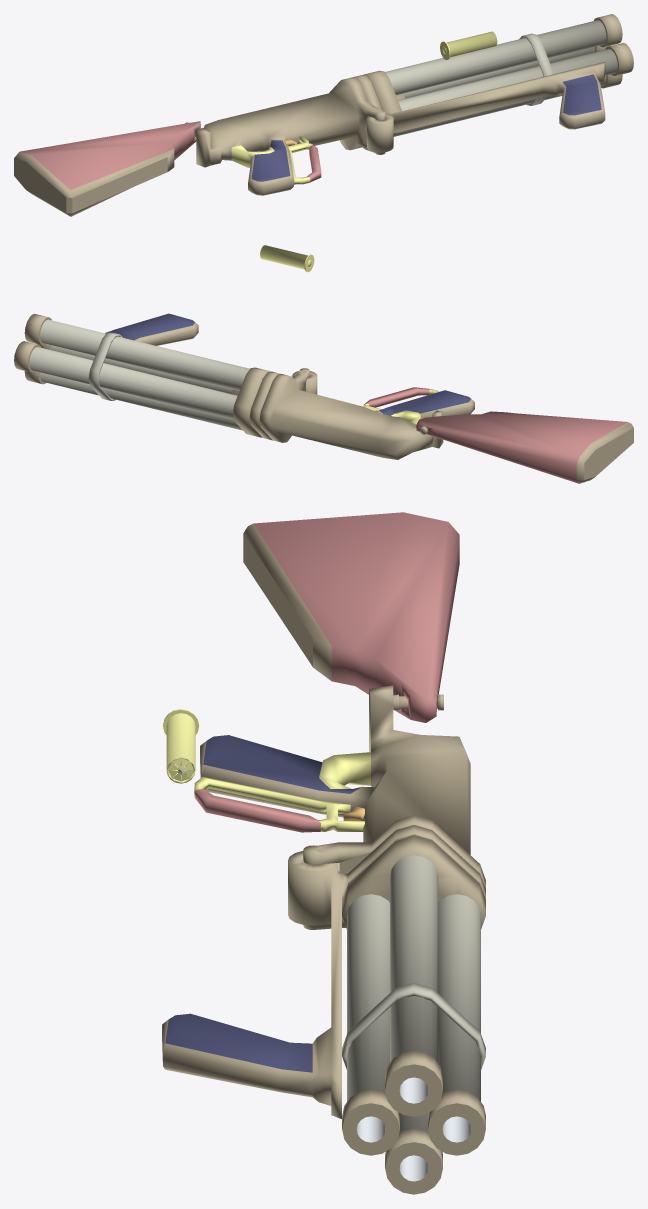
Rendered from steampunk_shotgun.fbx.
3 views of the same model, one above another, from view 1: azimuth 30°, elevation 25°; view 2: azimuth 150°, elevation 25°; view 3: azimuth 270°, elevation 25° (orthographic). The views are drawn at different scales.
Visible parts, largest first — view 1: Circle.027, Circle.033, Circle.031, Circle.024, cartridge, lever; view 2: Circle.027, Circle.033, Circle.031, Circle.024, cartridge, lever; view 3: Circle.027, Circle.031, Circle.033, Circle.024, lever, Circle.022, cartridge.
Part boxes in pixels (<box>): Circle.027: <box>363,14,633,136</box>; Circle.033: <box>185,77,385,195</box>; Circle.031: <box>14,121,200,216</box>; Circle.024: <box>352,62,605,152</box>; cartridge: <box>440,31,497,59</box>; lever: <box>286,136,321,184</box>; Circle.027: <box>14,314,270,437</box>; Circle.033: <box>259,368,474,459</box>; Circle.031: <box>416,411,633,483</box>; Circle.024: <box>105,313,317,440</box>; cartridge: <box>260,245,314,272</box>; lever: <box>363,387,438,410</box>; Circle.027: <box>342,836,485,1194</box>; Circle.031: <box>243,512,459,722</box>; Circle.033: <box>200,685,485,929</box>; Circle.024: <box>162,825,485,1118</box>; lever: <box>194,776,364,832</box>; Circle.022: <box>356,1077,471,1181</box>; cartridge: <box>163,709,199,783</box>.
Bounding box in the file's own units: 309 × 71.5 × 77.35.
